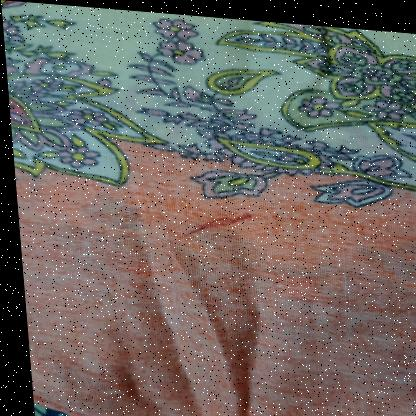spot: (194, 205, 263, 234)
